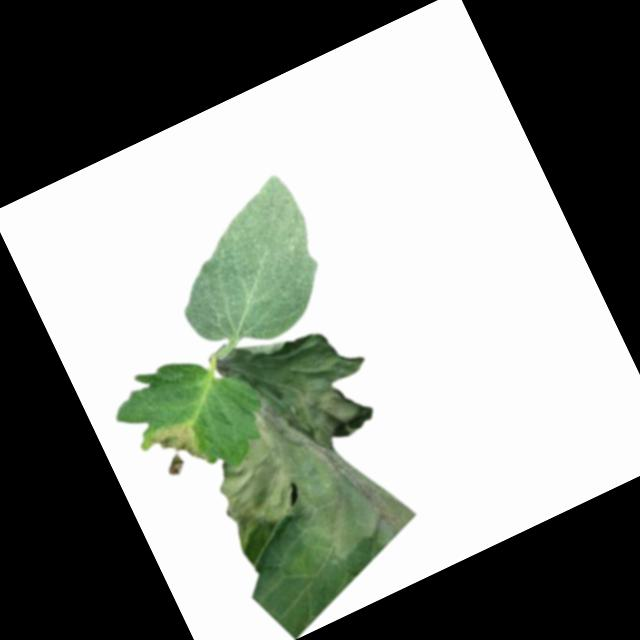Late_blight: (164, 303, 442, 604), (144, 415, 211, 481)
healthy: (145, 170, 347, 369)
